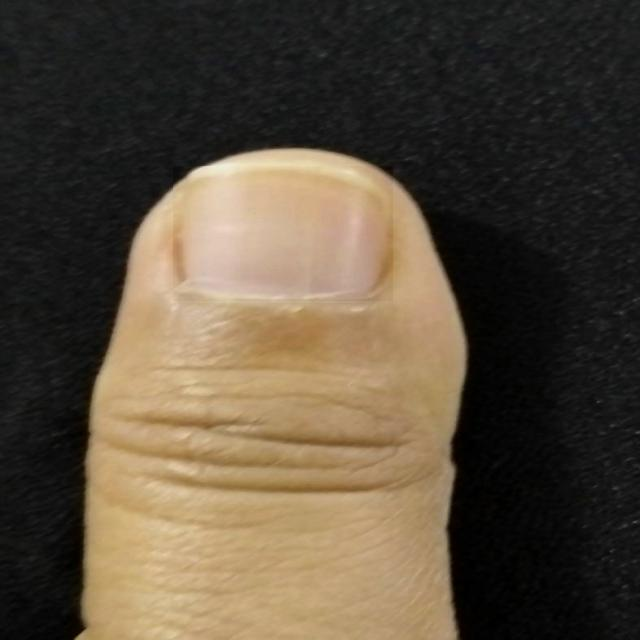sehat: (173, 166, 393, 301)
